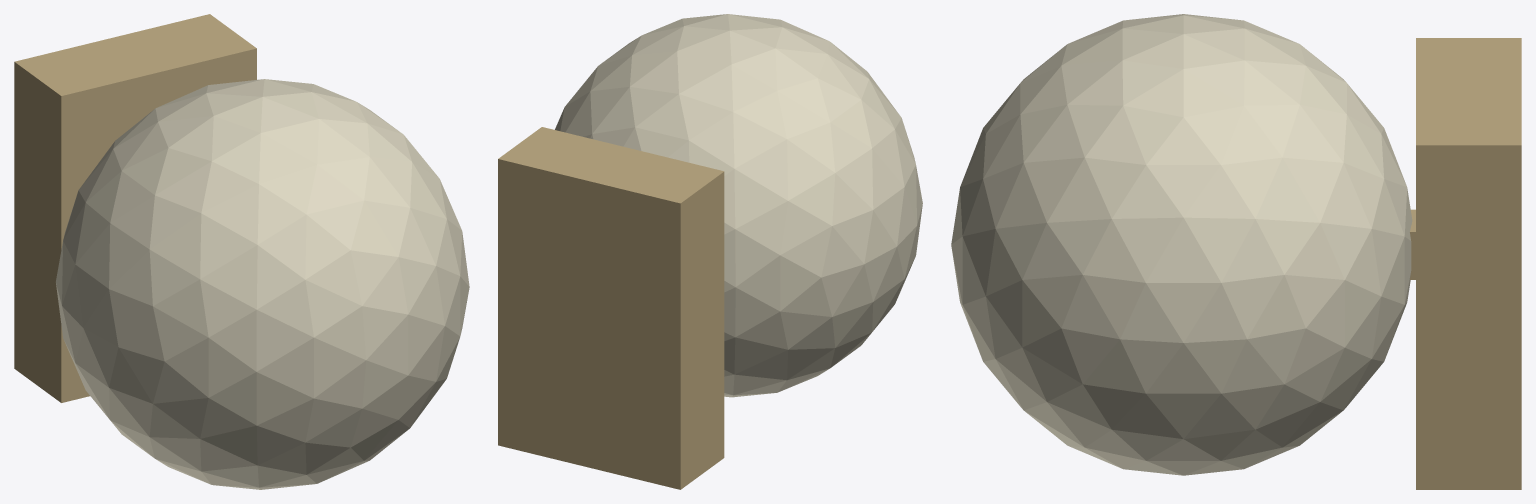
Rendered from wall-sconce-globe.glb.
The picture shows the model from 3 angles, left to right: view 1: azimuth 30°, elevation 25°; view 2: azimuth 150°, elevation 25°; view 3: azimuth 270°, elevation 25°; orthographic projection. The views are drawn at different scales.
Parts seen in each view (by area): view 1: wall-sconce-globe-2, wall-sconce-globe-0; view 2: wall-sconce-globe-2, wall-sconce-globe-0; view 3: wall-sconce-globe-2, wall-sconce-globe-0.
Boxes of the visible parts, bbox=[...] form: wall-sconce-globe-2: bbox=[56, 79, 469, 489]; wall-sconce-globe-0: bbox=[14, 14, 256, 402]; wall-sconce-globe-2: bbox=[555, 14, 922, 397]; wall-sconce-globe-0: bbox=[498, 127, 724, 489]; wall-sconce-globe-2: bbox=[951, 14, 1412, 475]; wall-sconce-globe-0: bbox=[1416, 38, 1521, 489].
Size of the model in its own units: 0.22 by 0.22 by 0.27.
